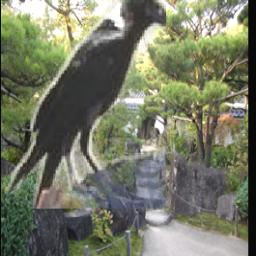Crow: (2, 0, 167, 209)
